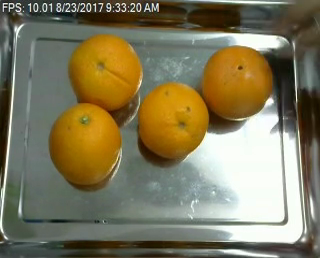Orange: (47, 103, 120, 187), (68, 34, 143, 111), (137, 80, 206, 160), (201, 45, 273, 121)
